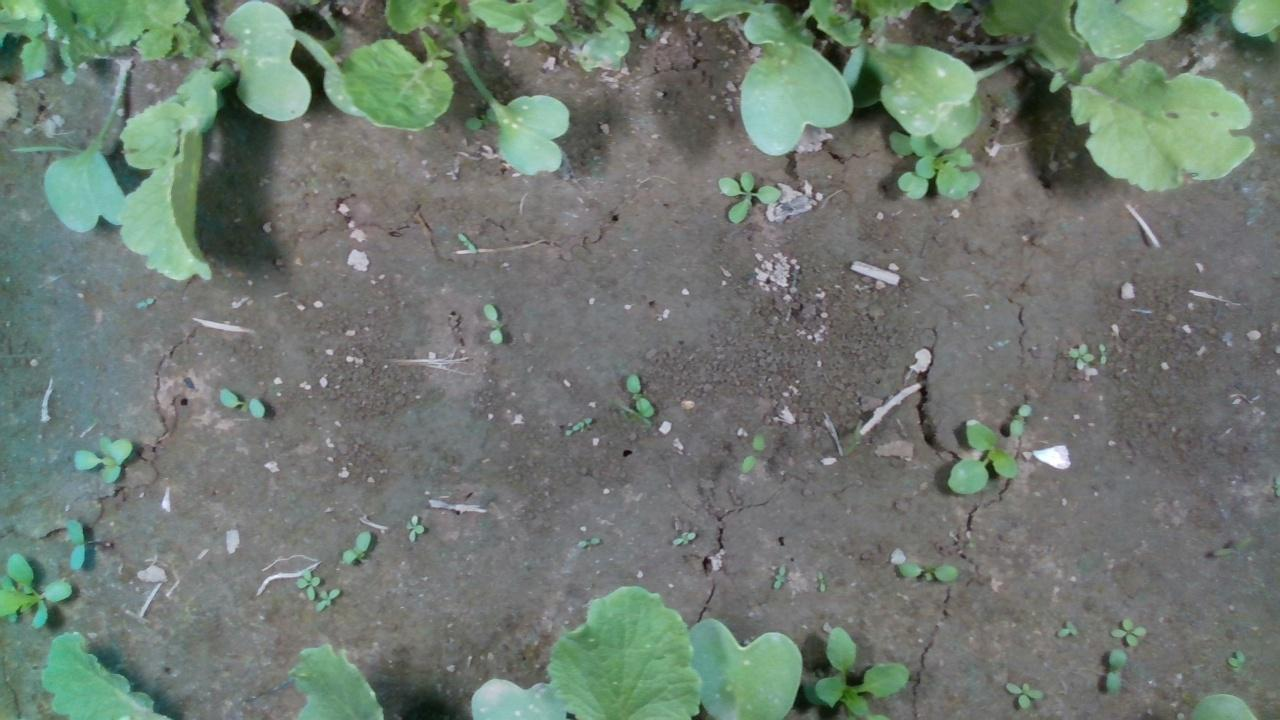weed: (715, 169, 779, 223), (71, 435, 133, 485), (216, 386, 265, 417), (624, 372, 655, 418), (896, 560, 959, 581), (737, 431, 767, 473), (1003, 679, 1043, 709), (477, 301, 503, 345), (1108, 617, 1147, 646), (340, 529, 371, 565), (64, 517, 85, 570), (1102, 646, 1125, 693), (1008, 402, 1031, 436), (1067, 341, 1094, 369), (313, 586, 339, 612), (1223, 650, 1248, 673), (406, 514, 425, 543), (1055, 619, 1079, 639), (769, 563, 787, 588), (573, 536, 603, 549), (673, 529, 696, 543), (813, 570, 827, 590), (1097, 341, 1107, 363)
